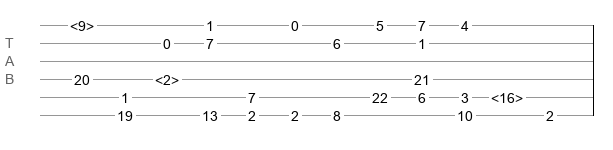0: (163, 36, 171, 46), (291, 18, 299, 28)
1: (121, 90, 129, 100), (206, 18, 214, 28), (418, 36, 426, 46)
10: (457, 108, 473, 118)
13: (202, 108, 218, 118)
19: (117, 108, 133, 118)
2: (248, 108, 256, 118), (291, 108, 299, 118), (546, 108, 554, 118)
20: (74, 72, 90, 82)
21: (414, 72, 430, 82)
22: (372, 90, 388, 100)
3: (461, 90, 469, 100)
4: (461, 18, 469, 28)
5: (376, 18, 384, 28)
6: (333, 36, 341, 46), (418, 90, 426, 100)
7: (206, 36, 214, 46), (248, 90, 256, 100), (418, 18, 426, 28)
8: (333, 108, 341, 118)
harmonic: (491, 90, 523, 100), (70, 18, 94, 28), (155, 72, 179, 82)
